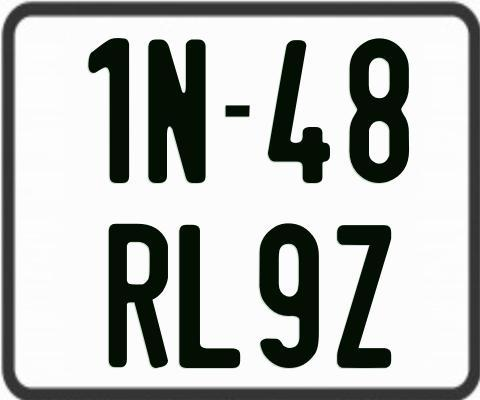1: (88, 35, 131, 182)
4: (268, 38, 334, 181)
8: (347, 35, 413, 186)
9: (256, 222, 321, 369)
L: (176, 223, 238, 372)
N: (148, 37, 210, 185)
R: (109, 221, 173, 371)
Z: (336, 225, 391, 371)
